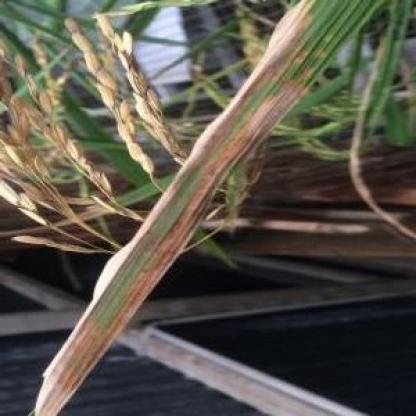Blight: (30, 1, 388, 416)
